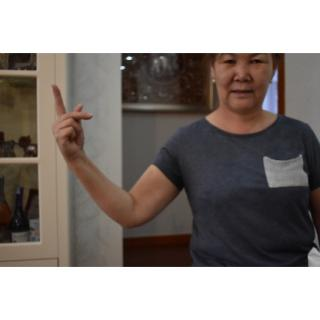DHAA: (43, 79, 97, 166)
